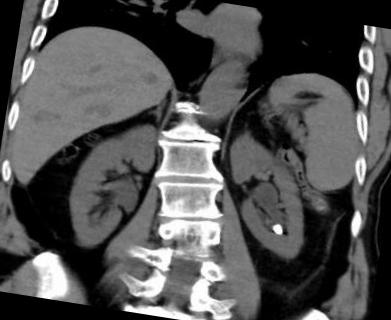Tas_Var: (268, 220, 288, 238)
